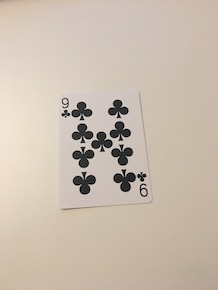NineOfClubs: (53, 88, 157, 213)
